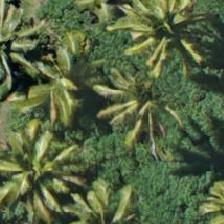coconut_tree: (96, 57, 186, 147), (0, 125, 85, 215), (117, 0, 207, 64)
